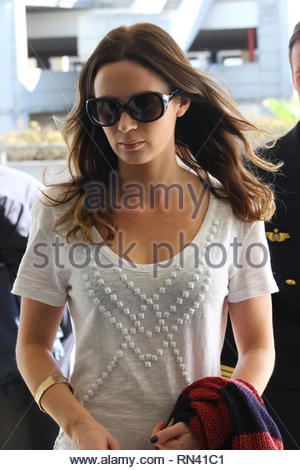sunglasses: (84, 95, 172, 123)
